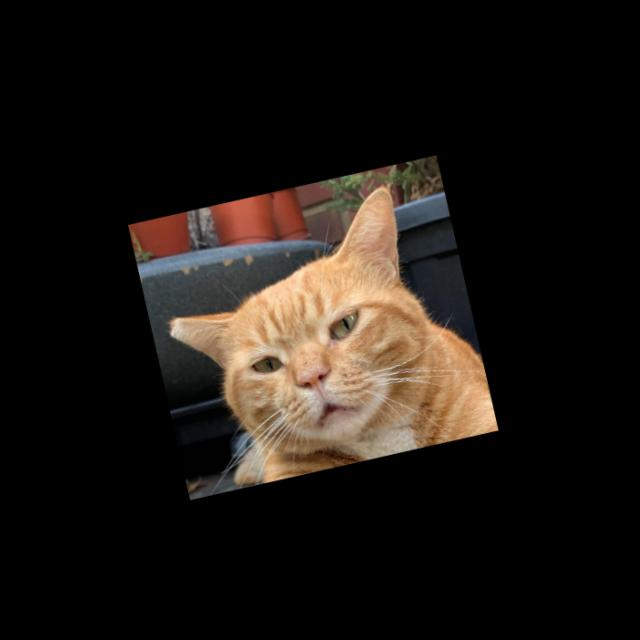animals: (144, 176, 464, 481)
